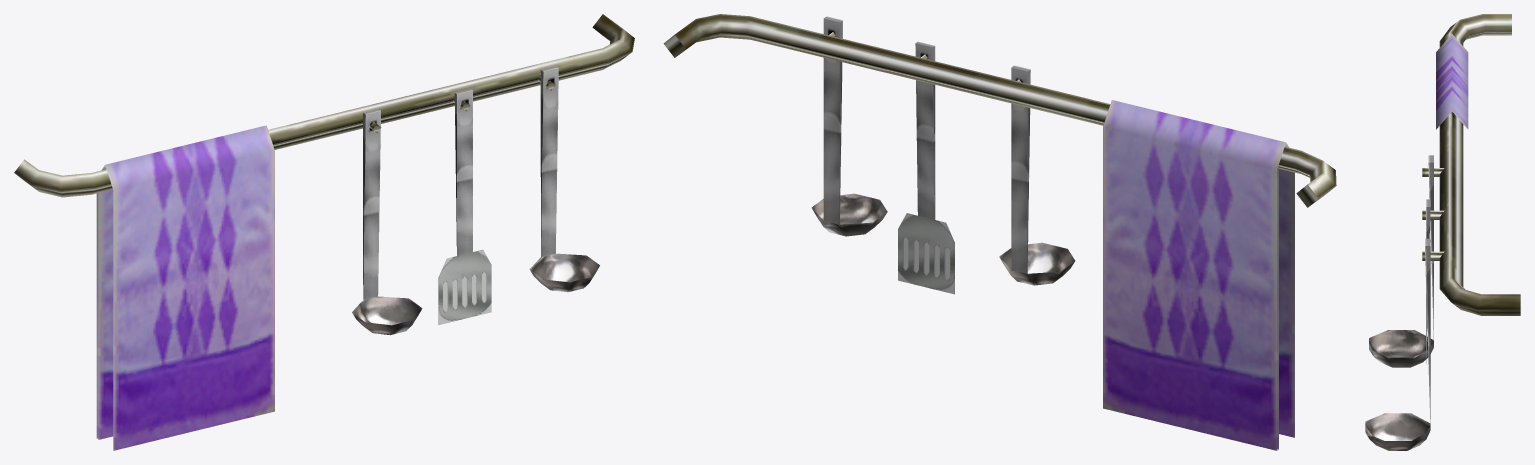
Rendered from furni_0200135_01.FBX.
3 renders of one model, left to right at view 1: azimuth 30°, elevation 25°; view 2: azimuth 150°, elevation 25°; view 3: azimuth 270°, elevation 25°, orthographic. The views are drawn at different scales.
Visible parts, largest first — view 1: furni_0200135_01; view 2: furni_0200135_01; view 3: furni_0200135_01.
Boxes of the visible parts, box(x1,y1,x2,y2) form: furni_0200135_01: box(14, 14, 634, 450); furni_0200135_01: box(663, 14, 1336, 450); furni_0200135_01: box(1365, 14, 1520, 450).
Bounding box in the file's own units: 82.03 × 36.39 × 18.51.
Materials: 1 (1 with a texture image).
